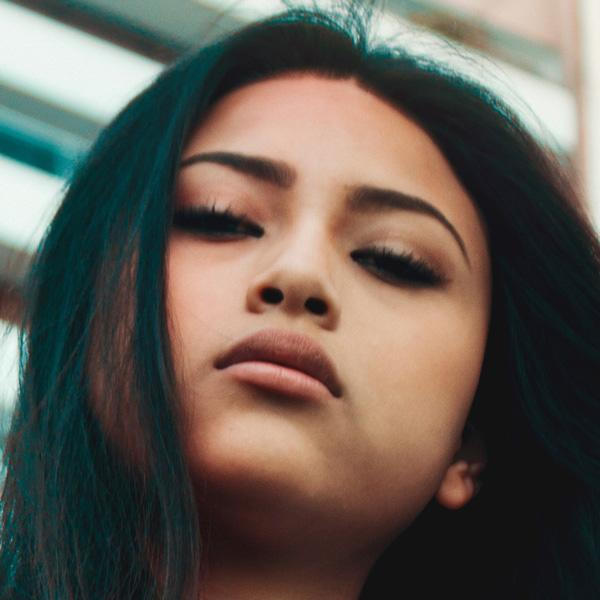Eyes: (340, 217, 456, 301), (160, 177, 269, 248)
